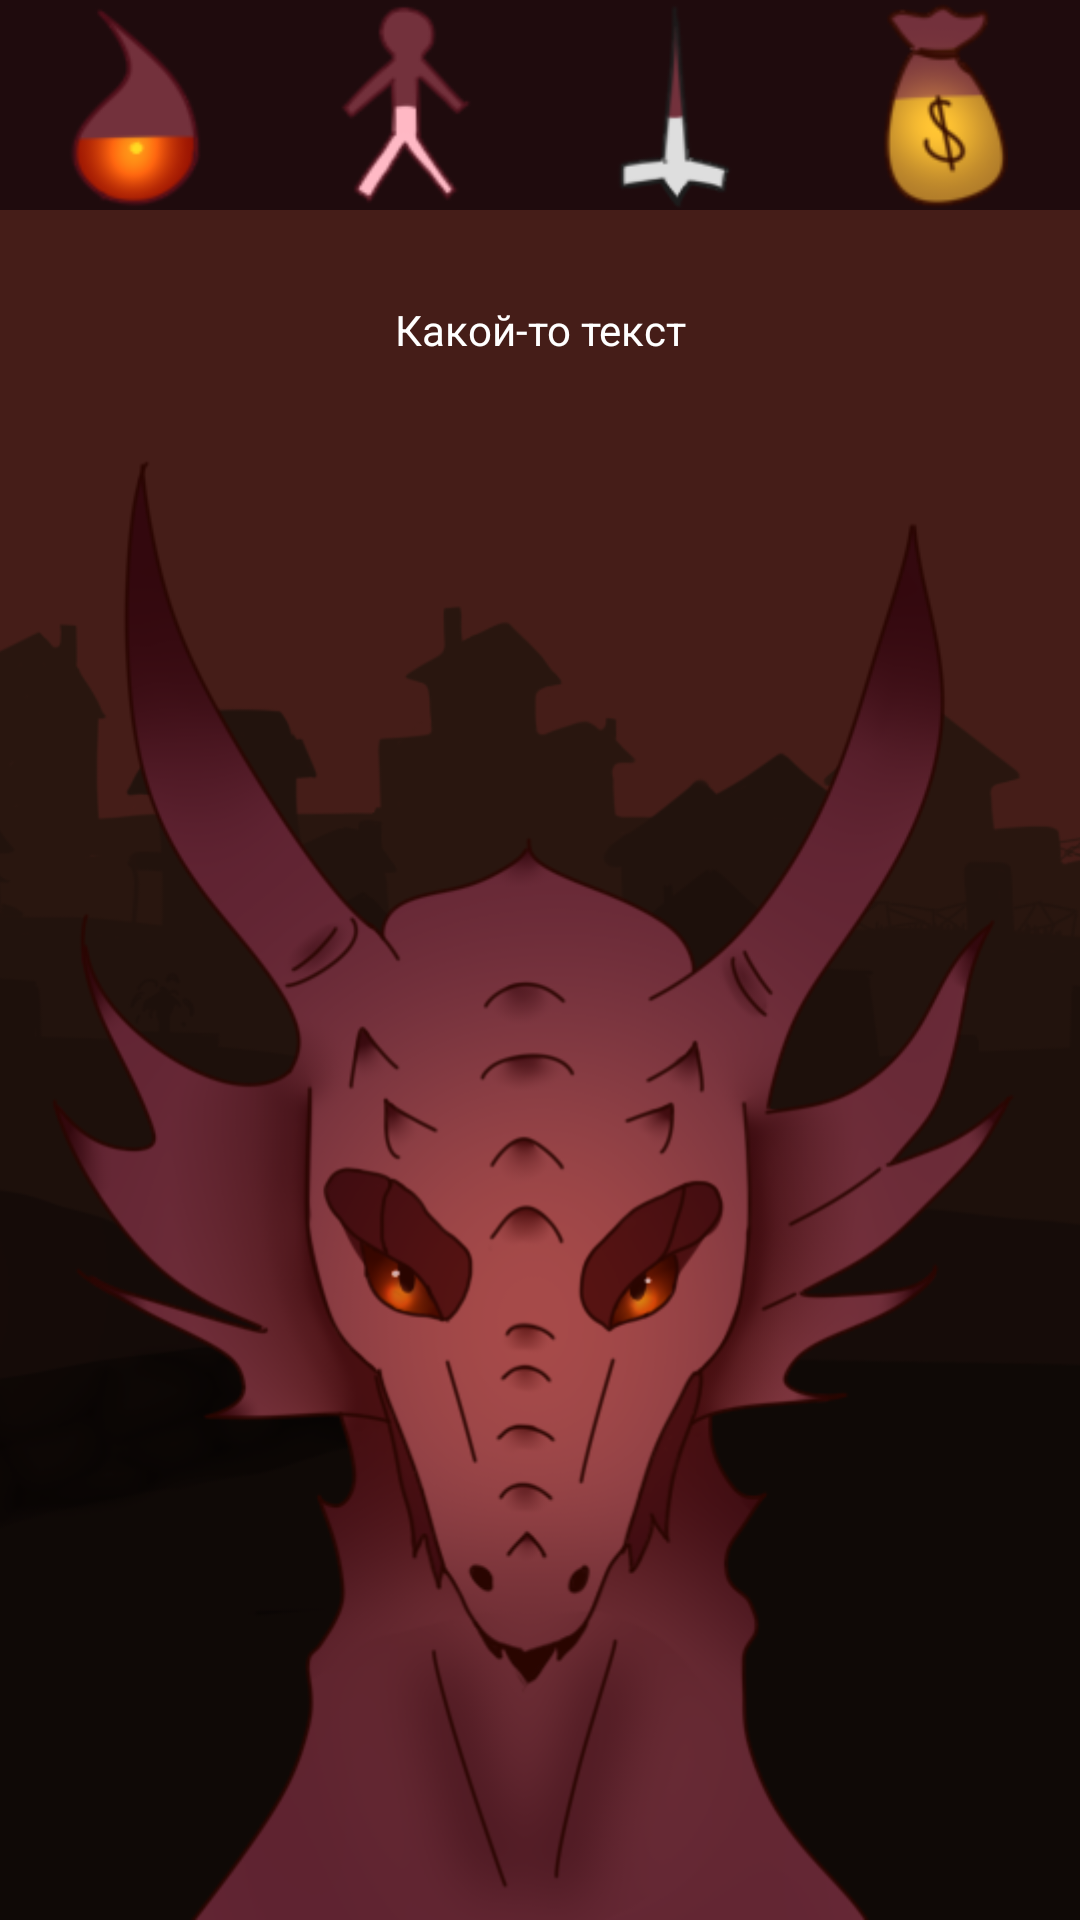

Locate icon controls on the screen. Image size 1080px×1920px, boxes as (x1, y1, x2, y2).
fire: (73, 11, 199, 204)
human: (343, 7, 468, 201)
money: (885, 8, 1005, 205)
sword: (621, 42, 728, 199)
